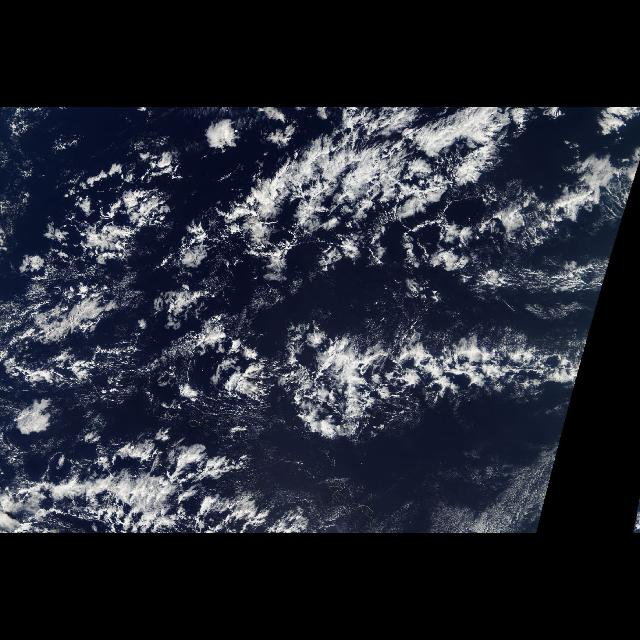Fish: (1, 116, 640, 534)
Flower: (10, 146, 194, 290)
Gravel: (20, 165, 166, 277), (8, 289, 144, 406)
